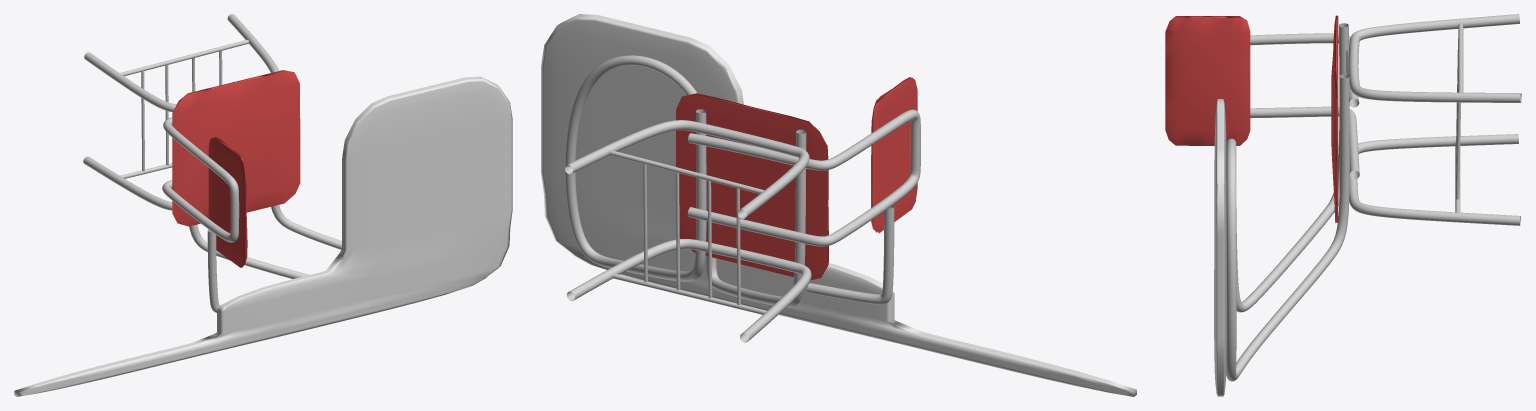
Rendered from studentdesk.fbx.
The picture shows the model from 3 angles, left to right: view 1: azimuth 30°, elevation 25°; view 2: azimuth 150°, elevation 25°; view 3: azimuth 270°, elevation 25°; orthographic projection. The views are drawn at different scales.
Visible parts, largest first — view 1: Mball, Cube, Mball_001, Cube_001, NurbsCurve_004, NurbsCurve_002, NurbsCurve, NurbsCurve_003, NurbsCurve_001, NurbsCurve_005; view 2: Mball, Cube, Mball_001, NurbsCurve, NurbsCurve_004, Cube_001, NurbsCurve_002, NurbsCurve_003, NurbsCurve_001, NurbsCurve_005, NurbsCurve_006, NurbsCurve_011; view 3: Cube_001, NurbsCurve, NurbsCurve_002, Mball, NurbsCurve_003, NurbsCurve_004, Cube, NurbsCurve_005, NurbsCurve_012.
Part boxes in pixels (x1,y1,x2,y2): Mball: (226, 76, 512, 332); Cube: (172, 70, 300, 226); Mball_001: (14, 273, 487, 396); Cube_001: (208, 137, 247, 267); NurbsCurve_004: (162, 117, 239, 242); NurbsCurve_002: (84, 14, 279, 112); NurbsCurve: (189, 205, 341, 278); NurbsCurve_003: (83, 156, 172, 210); NurbsCurve_001: (207, 229, 220, 312); NurbsCurve_005: (120, 39, 248, 76); Mball: (541, 14, 883, 320); Cube: (676, 93, 828, 280); Mball_001: (571, 253, 1136, 396); NurbsCurve: (565, 55, 806, 307); NurbsCurve_004: (687, 109, 920, 246); Cube_001: (871, 77, 917, 233); NurbsCurve_002: (565, 120, 809, 218); NurbsCurve_003: (566, 238, 811, 342); NurbsCurve_001: (807, 205, 894, 304); NurbsCurve_005: (609, 150, 764, 194); NurbsCurve_006: (612, 273, 767, 314); NurbsCurve_011: (675, 172, 680, 290); Cube_001: (1165, 16, 1250, 145); NurbsCurve: (1226, 23, 1349, 381); NurbsCurve_002: (1348, 14, 1521, 102); Mball: (1214, 99, 1226, 395); NurbsCurve_003: (1349, 134, 1520, 225); NurbsCurve_004: (1250, 33, 1359, 179); Cube: (1331, 15, 1338, 223); NurbsCurve_005: (1458, 23, 1463, 92); NurbsCurve_012: (1455, 83, 1460, 199).
Size of the model in its own units: 9.4 by 3.89 by 5.02.
